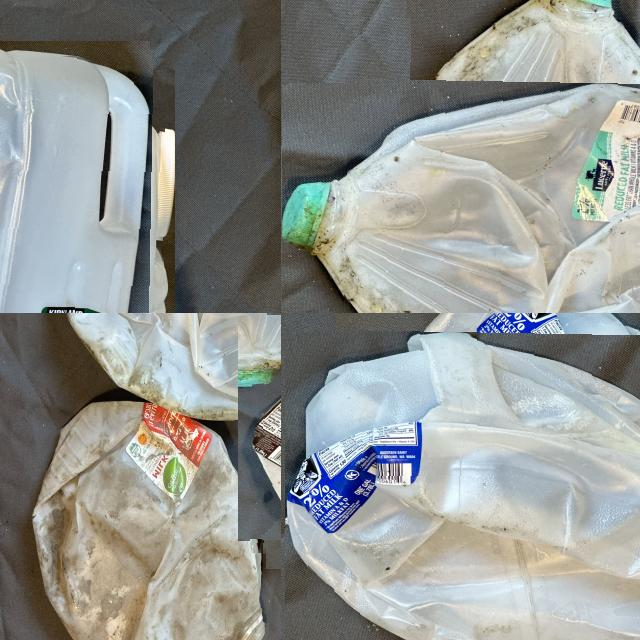milk-jug: (307, 313, 640, 640), (343, 19, 640, 313), (27, 397, 270, 640), (0, 52, 164, 313), (41, 313, 281, 427)
